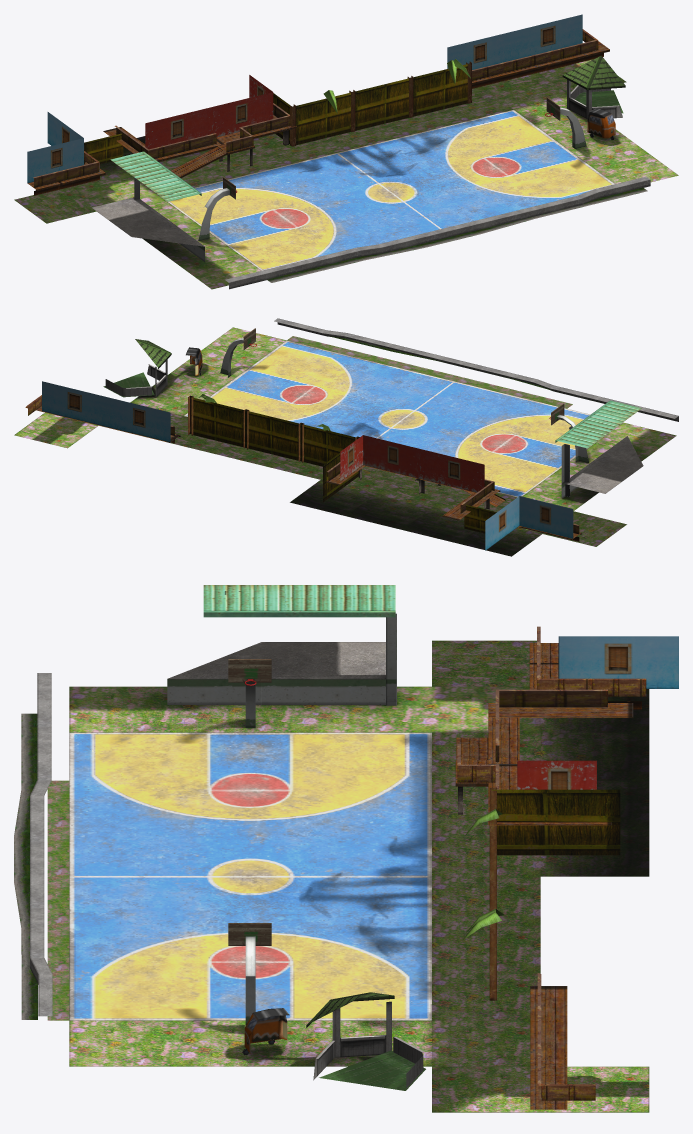
The model's file is court_phillipines_mesh.fbx.
3 renders of one model, top to bottom at view 1: azimuth 30°, elevation 25°; view 2: azimuth 150°, elevation 25°; view 3: azimuth 270°, elevation 25°, orthographic. The views are drawn at different scales.
Parts seen in each view (by area): view 1: court_phillipines_mesh; view 2: court_phillipines_mesh; view 3: court_phillipines_mesh.
Part boxes in pixels (x1,y1,x2,y2): court_phillipines_mesh: (14, 14, 678, 289); court_phillipines_mesh: (14, 318, 678, 556); court_phillipines_mesh: (14, 585, 678, 1112).
Bounding box in the file's own units: 157 × 15 × 91.75.
